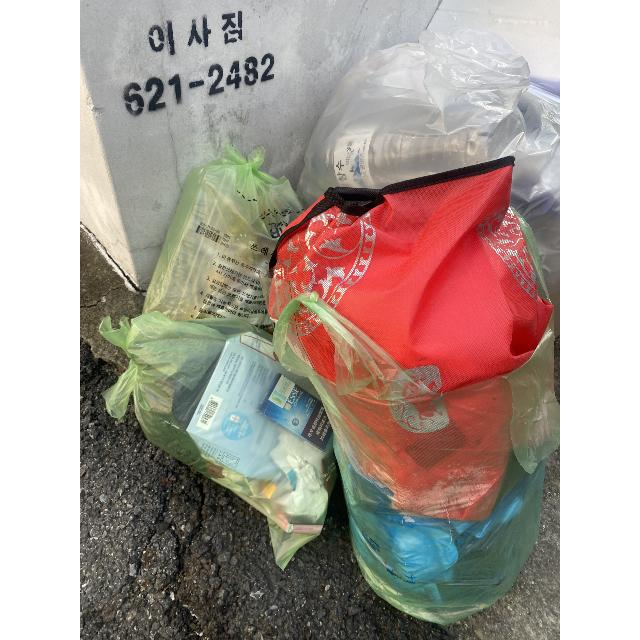general_trashbag: (277, 306, 560, 619), (91, 314, 336, 551), (145, 152, 290, 324)
other_trashbag: (299, 41, 560, 210)
